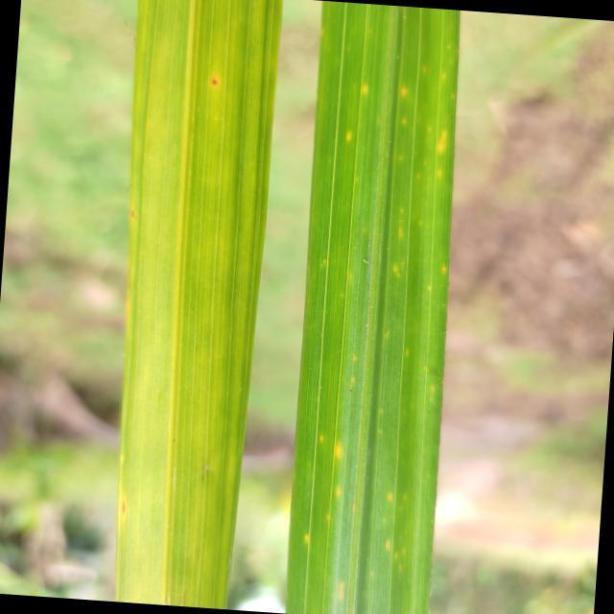nitrogen: (112, 0, 283, 614), (290, 0, 460, 614)
